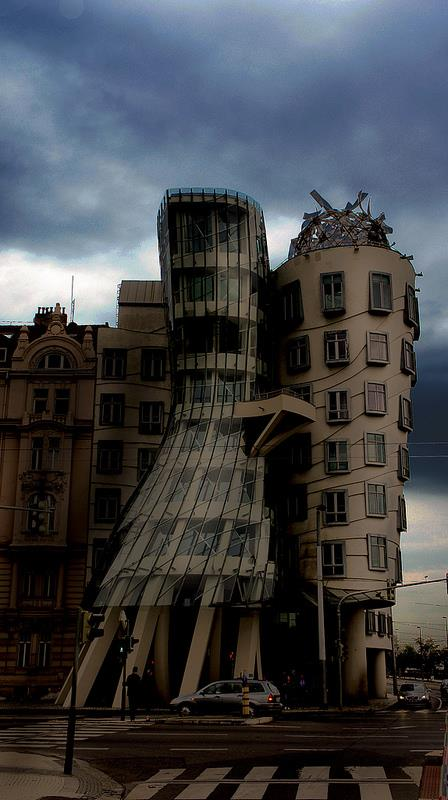dancing_house: (107, 184, 419, 699)
